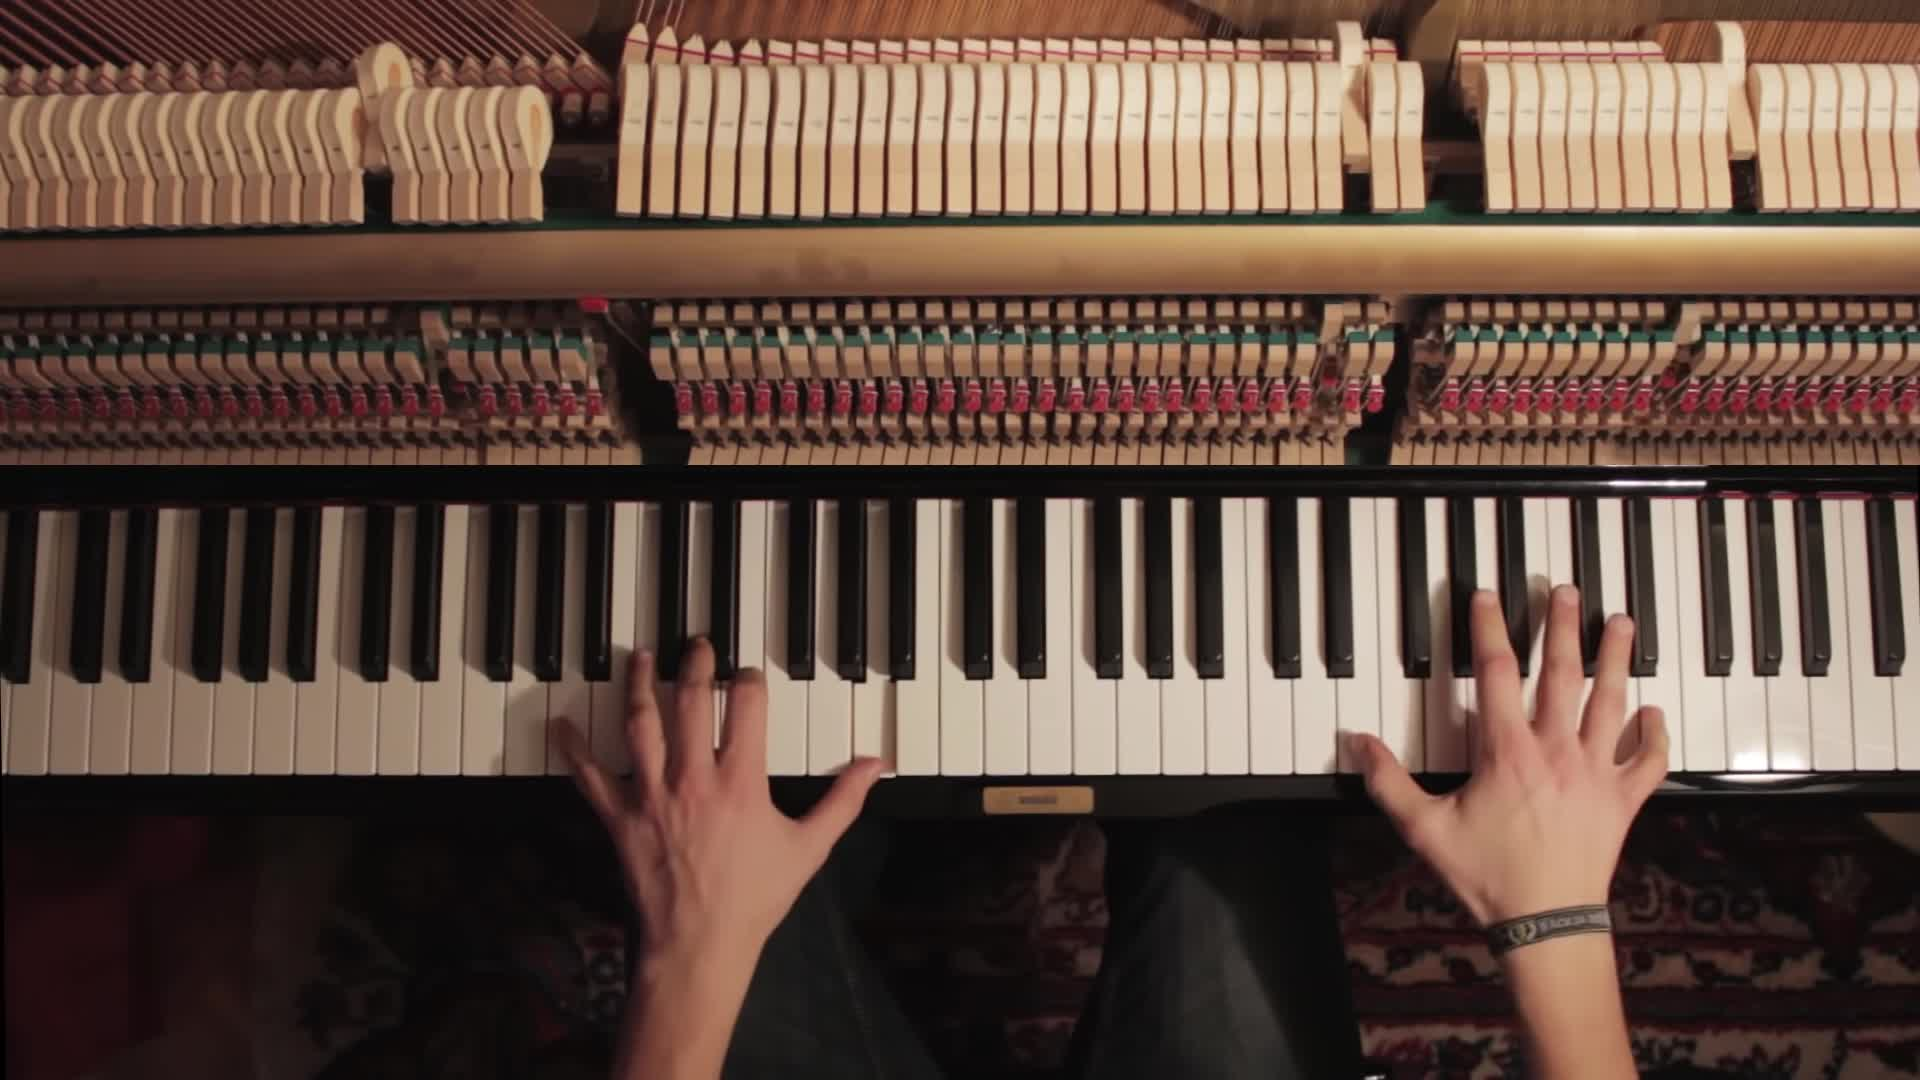left: (539, 630, 890, 927)
right: (1344, 576, 1675, 932)
